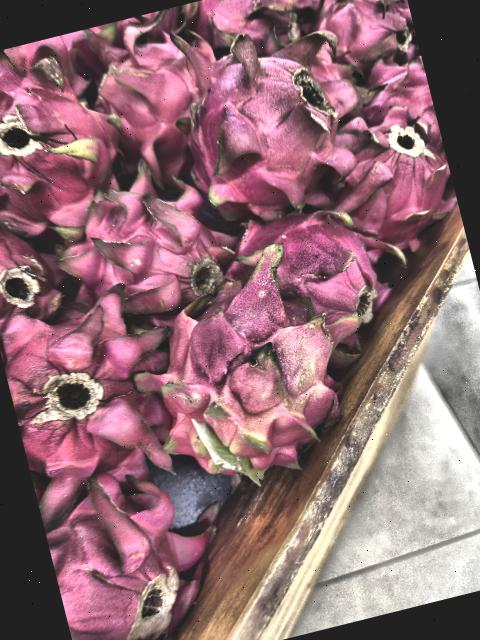buah-naga-belum-matang: (144, 263, 366, 487)
buah-naga-matang: (0, 272, 180, 505), (178, 29, 372, 221), (32, 447, 210, 640), (47, 158, 240, 332), (228, 191, 402, 364), (313, 84, 465, 260), (0, 42, 127, 234), (83, 19, 222, 180), (0, 178, 76, 328), (190, 0, 297, 63), (352, 48, 435, 128), (312, 0, 412, 65)
